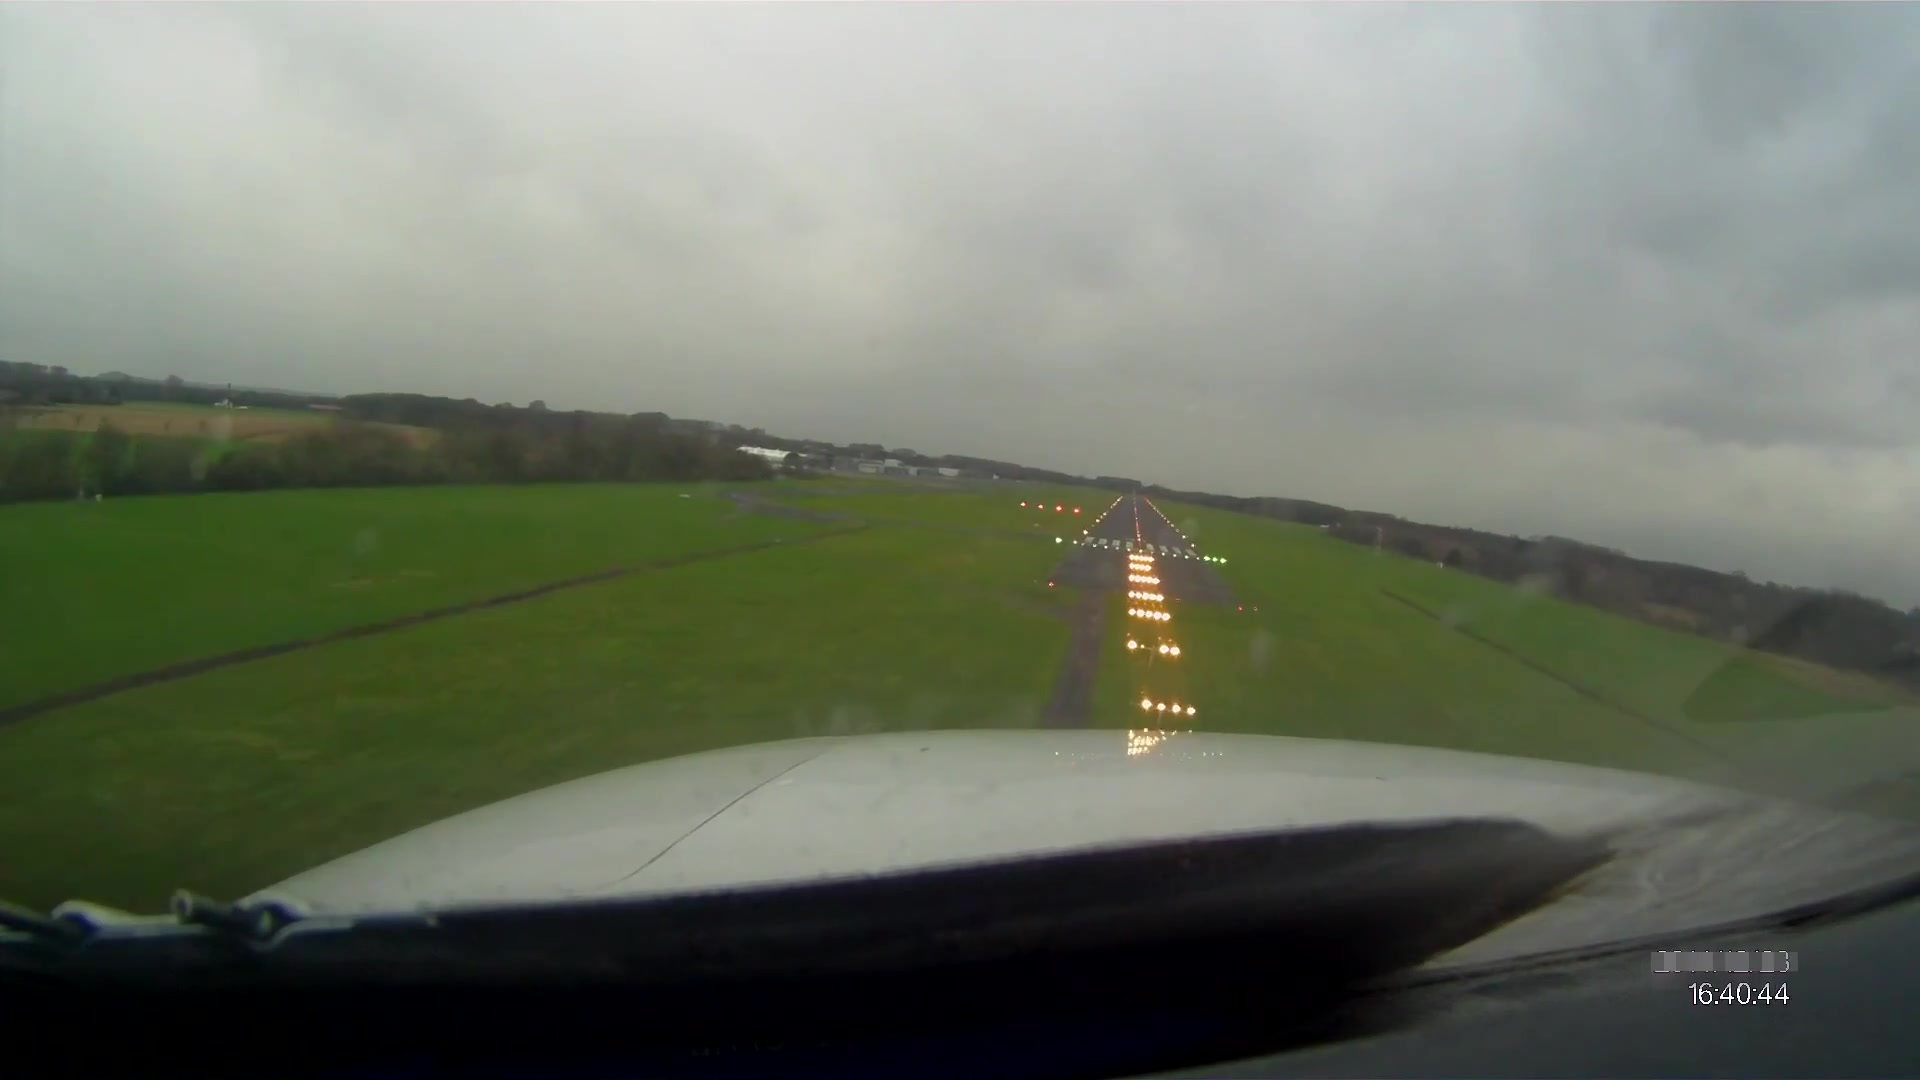runway: (1075, 488, 1207, 564)
